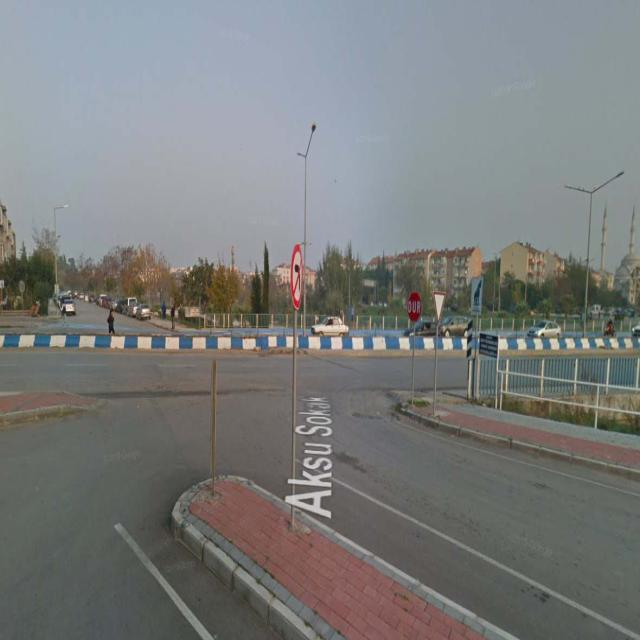dur: (406, 292, 423, 324)
soladonulmez: (291, 244, 306, 305)
